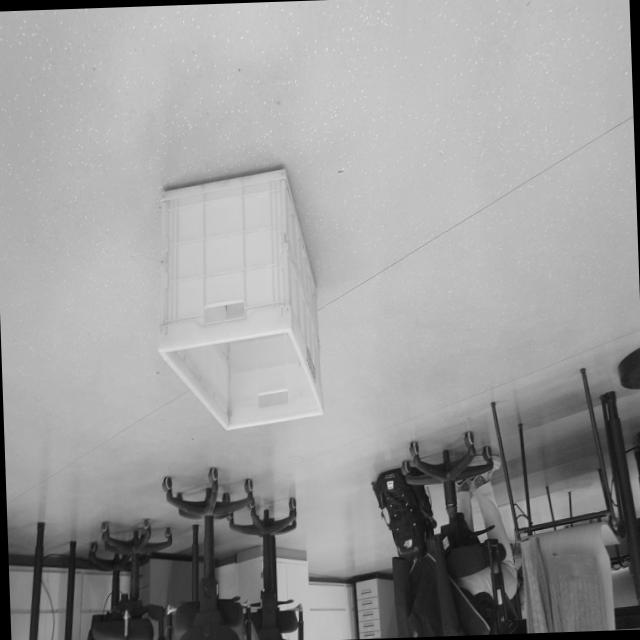box: (148, 150, 324, 444)
